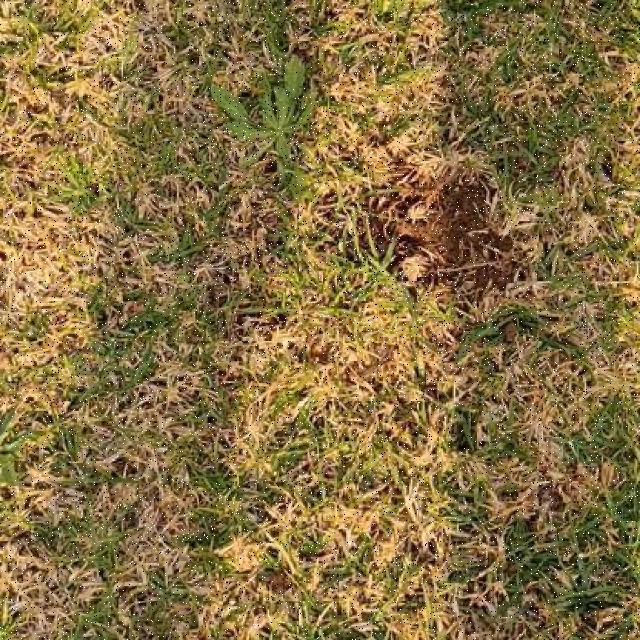weed: (209, 55, 312, 182)
